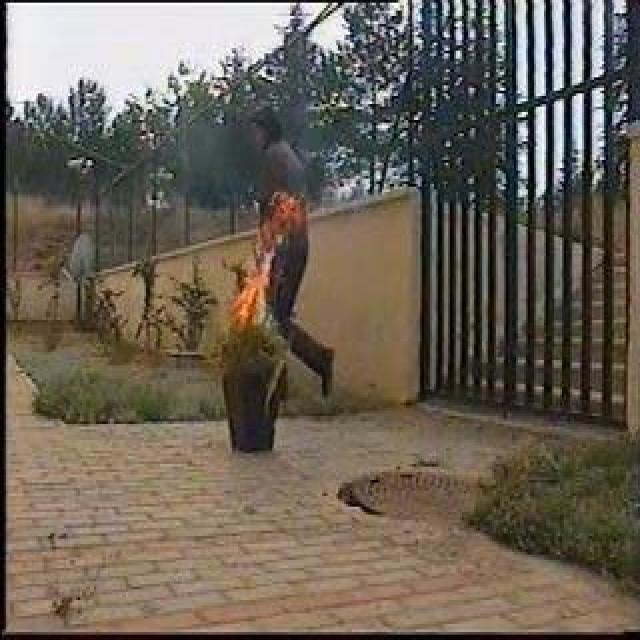Fire: (226, 197, 296, 336)
